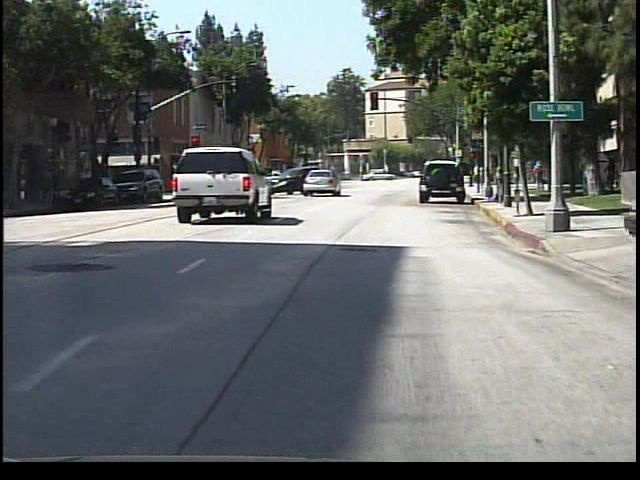person: (317, 159, 336, 195), (531, 158, 547, 195), (470, 159, 485, 187)
